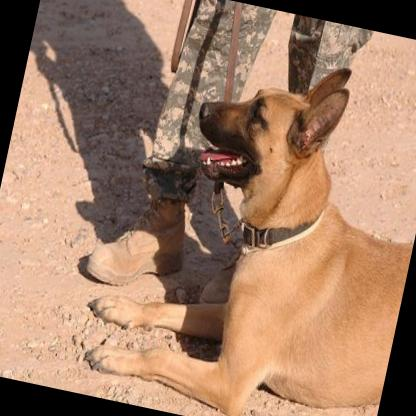malinois: (72, 23, 416, 416)
